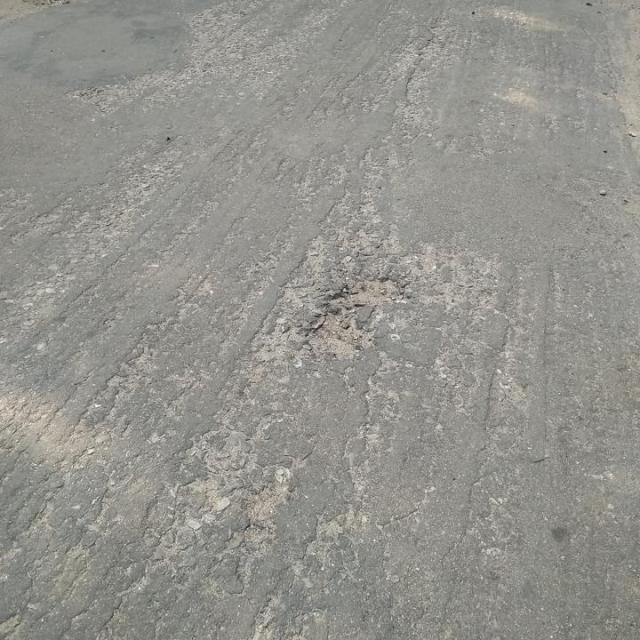pothole: (302, 271, 412, 363)
